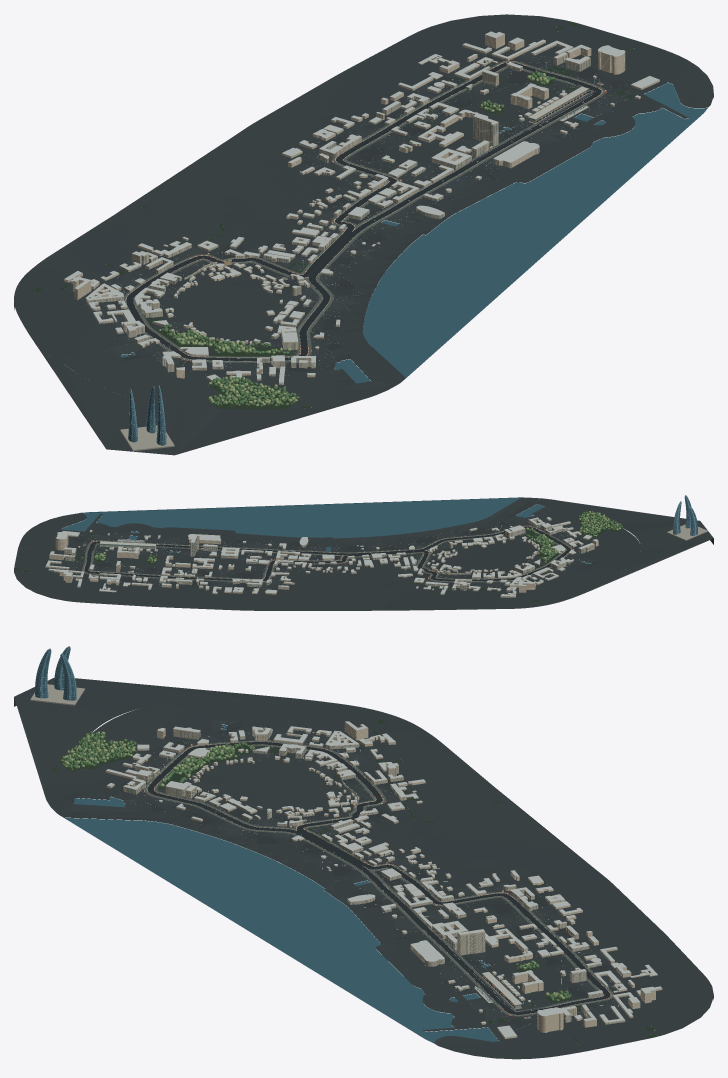
File: Baku.glb
3 renders of one model, top to bottom at view 1: azimuth 30°, elevation 25°; view 2: azimuth 150°, elevation 25°; view 3: azimuth 270°, elevation 25°, orthographic. The views are drawn at different scales.
Parts seen in each view (by area): view 1: terrain/ground, water-1/water, terrain-extension/land, terrain-ground-finish-1, road/asphalt, terrain-ground-finish-2, terrain-ground-finish-3, terrain-ground-finish-0, runoff/runoff, terrain-ground-finish-4, terrain-woodland/forestFloor, scenery/leaves (+8 smaller); view 2: terrain/ground, water-1/water, terrain-extension/land, terrain-ground-finish-1, terrain-ground-finish-2, terrain-ground-finish-3, road/asphalt, terrain-ground-finish-0, runoff/runoff, terrain-ground-finish-4, street-walls/concrete, scenery/leaves (+14 smaller); view 3: terrain/ground, water-1/water, terrain-extension/land, terrain-ground-finish-1, terrain-ground-finish-2, road/asphalt, terrain-ground-finish-3, terrain-ground-finish-0, runoff/runoff, terrain-ground-finish-4, scenery/leaves, street-walls/concrete (+5 smaller).
Part boxes in pixels (x1=…): terrain/ground: x1=14, y1=14, x2=713, y2=408; water-1/water: x1=362, y1=83, x2=707, y2=377; terrain-extension/land: x1=33, y1=340, x2=358, y2=455; terrain-ground-finish-1: x1=106, y1=51, x2=637, y2=375; road/asphalt: x1=126, y1=62, x2=601, y2=361; terrain-ground-finish-2: x1=96, y1=49, x2=632, y2=374; terrain-ground-finish-3: x1=98, y1=52, x2=629, y2=374; terrain-ground-finish-0: x1=99, y1=55, x2=631, y2=374; runoff/runoff: x1=123, y1=60, x2=605, y2=362; terrain-ground-finish-4: x1=87, y1=50, x2=620, y2=375; terrain-woodland/forestFloor: x1=31, y1=15, x2=644, y2=408; scenery/leaves: x1=185, y1=100, x2=504, y2=406; terrain/ground: x1=14, y1=497, x2=640, y2=610; water-1/water: x1=62, y1=497, x2=521, y2=538; terrain-extension/land: x1=562, y1=501, x2=713, y2=585; terrain-ground-finish-1: x1=68, y1=521, x2=585, y2=590; terrain-ground-finish-2: x1=66, y1=520, x2=584, y2=589; terrain-ground-finish-3: x1=64, y1=518, x2=579, y2=589; road/asphalt: x1=84, y1=526, x2=570, y2=581; terrain-ground-finish-0: x1=73, y1=521, x2=581, y2=590; runoff/runoff: x1=82, y1=525, x2=572, y2=582; terrain-ground-finish-4: x1=65, y1=518, x2=585, y2=590; street-walls/concrete: x1=83, y1=526, x2=569, y2=581; scenery/leaves: x1=146, y1=511, x2=623, y2=563; terrain/ground: x1=44, y1=696, x2=713, y2=1059; water-1/water: x1=64, y1=817, x2=498, y2=1042; terrain-extension/land: x1=14, y1=677, x2=284, y2=794; terrain-ground-finish-1: x1=120, y1=730, x2=637, y2=1026; terrain-ground-finish-2: x1=120, y1=732, x2=637, y2=1025; road/asphalt: x1=147, y1=742, x2=610, y2=1014; terrain-ground-finish-3: x1=120, y1=728, x2=625, y2=1022; terrain-ground-finish-0: x1=120, y1=739, x2=633, y2=1028; runoff/runoff: x1=144, y1=740, x2=613, y2=1016; terrain-ground-finish-4: x1=124, y1=727, x2=622, y2=1018; scenery/leaves: x1=60, y1=731, x2=539, y2=969; street-walls/concrete: x1=146, y1=741, x2=611, y2=1015.
Bounding box in the file's own units: 2936 × 219 × 2303.
